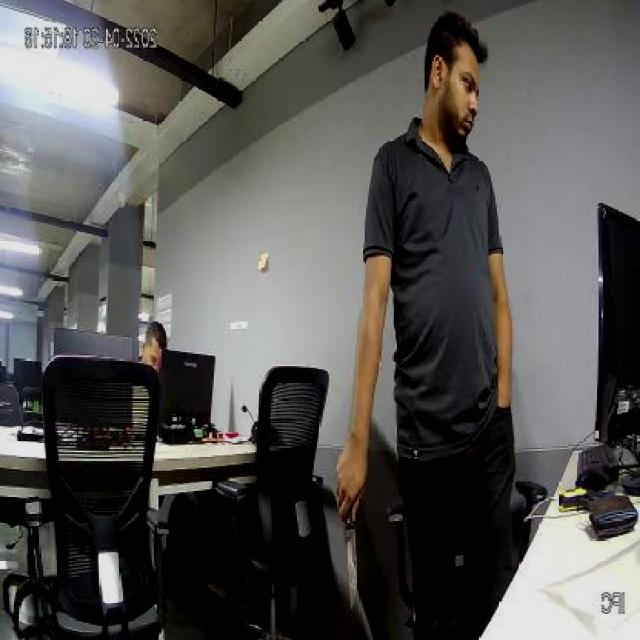knife: (340, 512, 365, 614)
